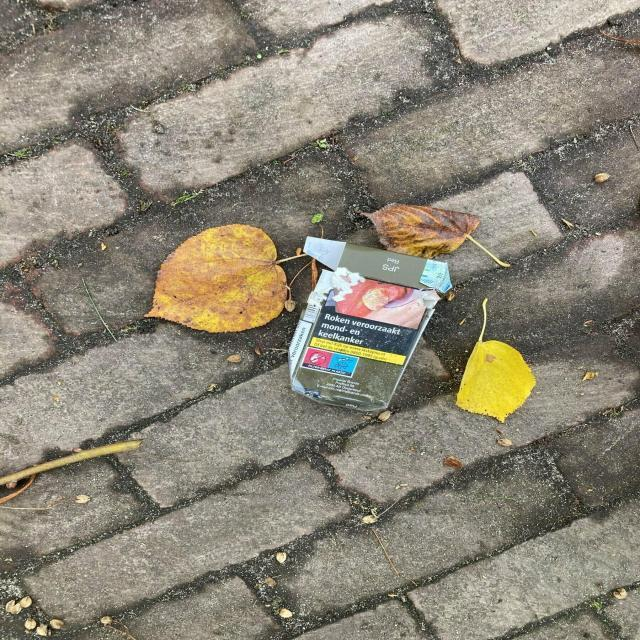Paper: (285, 236, 455, 414)
